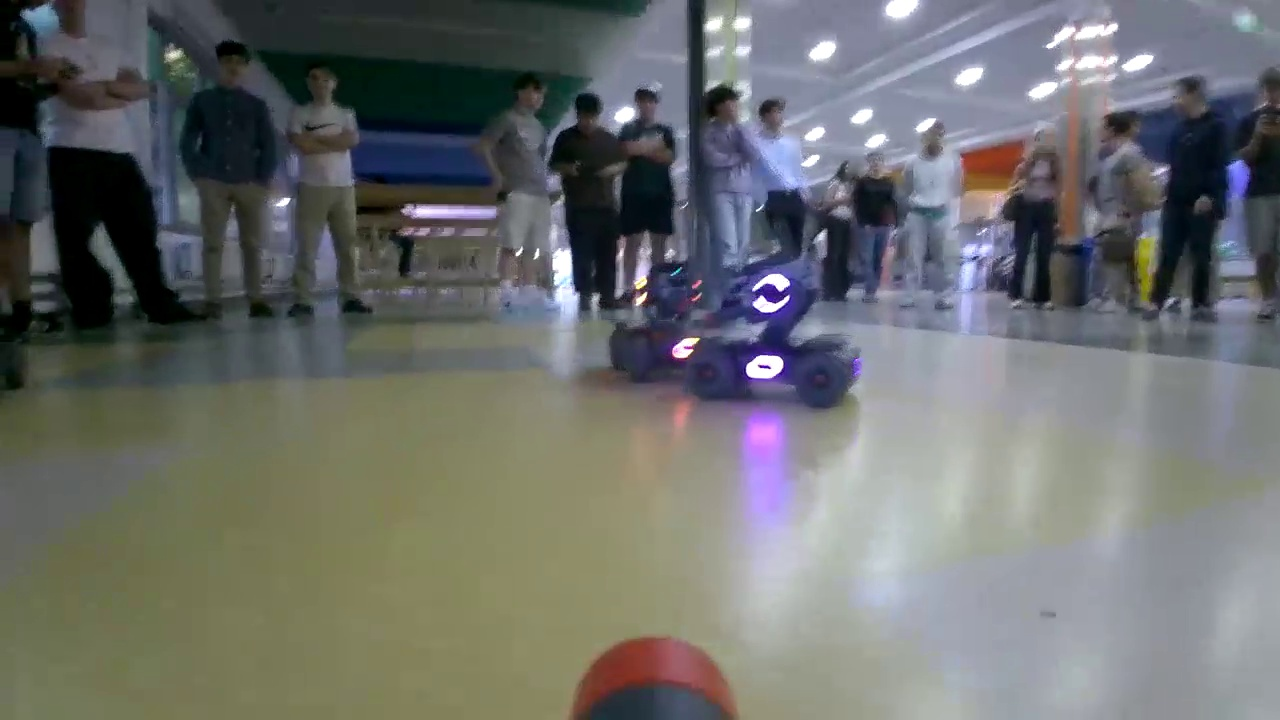robot: (684, 262, 861, 407), (600, 258, 712, 376)
